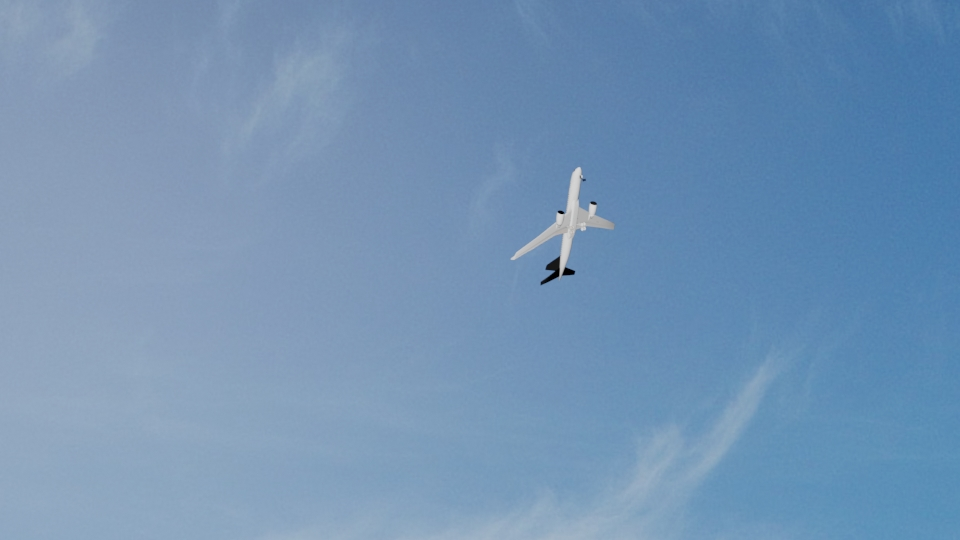plane: (510, 165, 615, 284)
